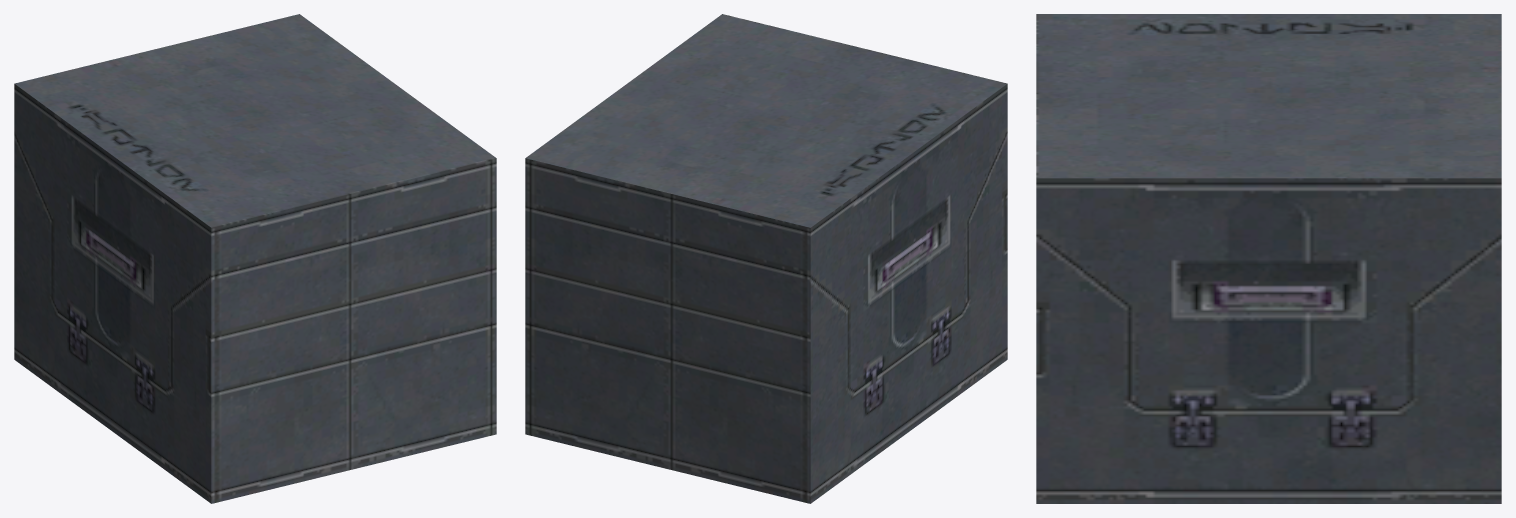
Rendered from con_gen_inorganic_gas_sml_l2.fbx.
3 renders of one model, left to right at view 1: azimuth 30°, elevation 25°; view 2: azimuth 150°, elevation 25°; view 3: azimuth 270°, elevation 25°, orthographic. The views are drawn at different scales.
Parts seen in each view (by area): view 1: mesh_node; view 2: mesh_node; view 3: mesh_node.
Part boxes in pixels (bbox=[...]): mesh_node: bbox=[14, 14, 496, 503]; mesh_node: bbox=[525, 14, 1007, 503]; mesh_node: bbox=[1036, 14, 1501, 503].
Bounding box in the file's own units: 0.2565 × 0.2372 × 0.3072.
